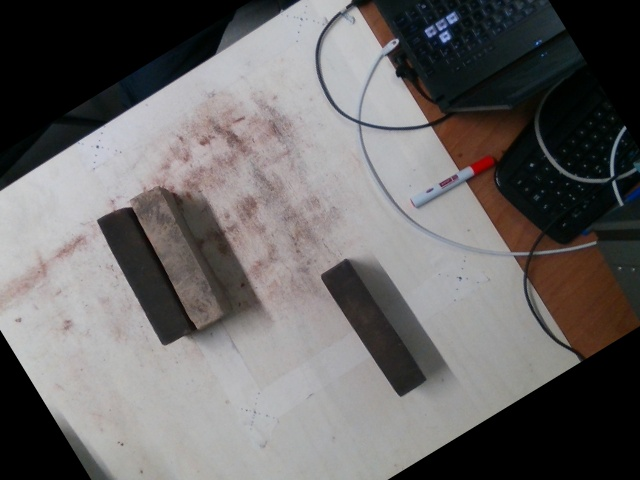brick-side: (321, 261, 423, 396), (98, 210, 188, 349), (132, 188, 219, 326)
